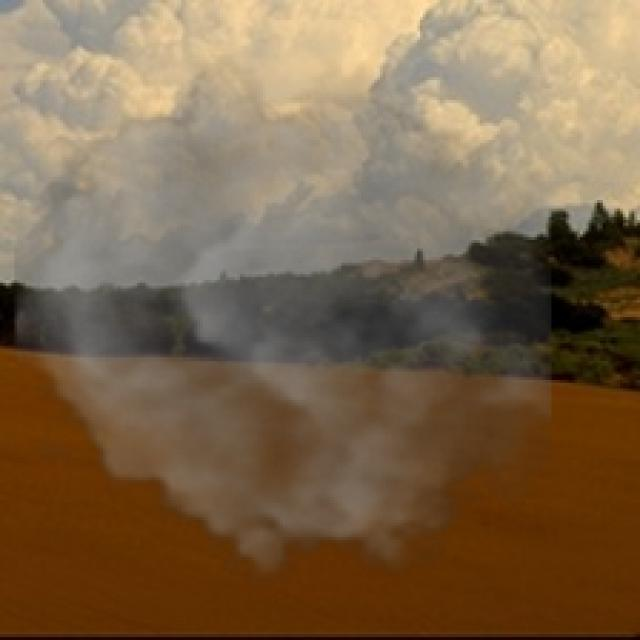smoke: (14, 55, 552, 594)
